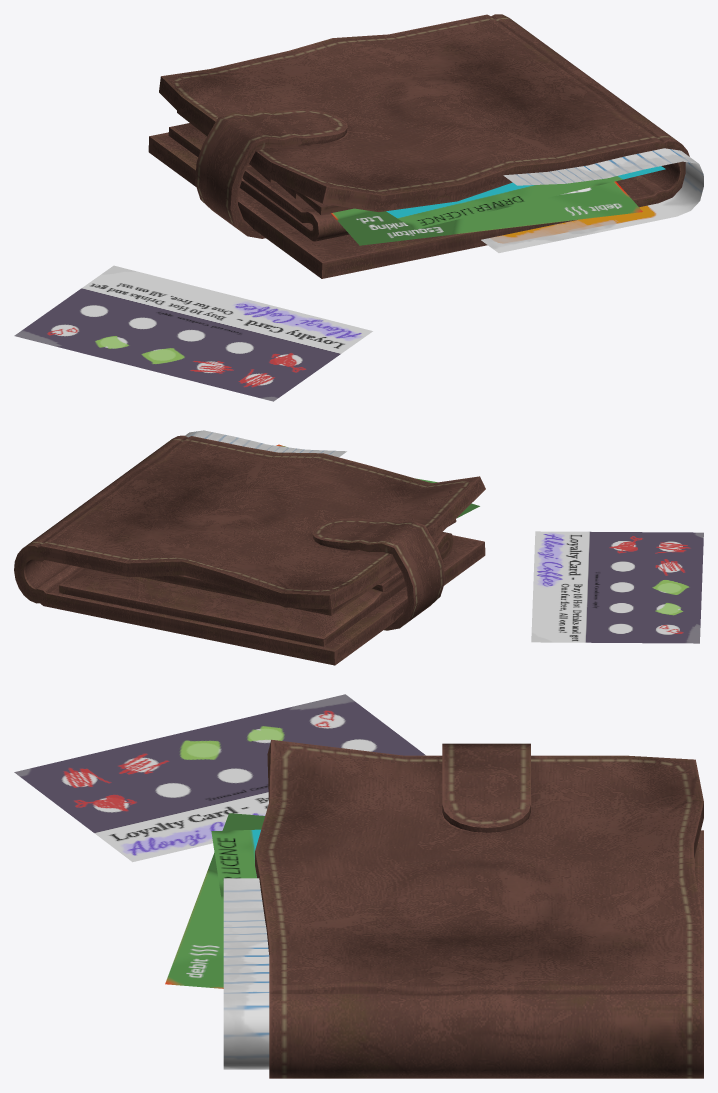
The model's file is SM_Wallet.fbx.
3 renders of one model, top to bottom at view 1: azimuth 30°, elevation 25°; view 2: azimuth 150°, elevation 25°; view 3: azimuth 270°, elevation 25°, orthographic. The views are drawn at different scales.
Visible parts, largest first — view 1: SM_Wallet_LOD0; view 2: SM_Wallet_LOD0; view 3: SM_Wallet_LOD0.
Boxes of the visible parts, bbox=[...] form: SM_Wallet_LOD0: bbox=[14, 14, 703, 401]; SM_Wallet_LOD0: bbox=[14, 430, 703, 665]; SM_Wallet_LOD0: bbox=[14, 694, 703, 1078].
Bounding box in the file's own units: 22.97 × 16.9 × 3.52.
